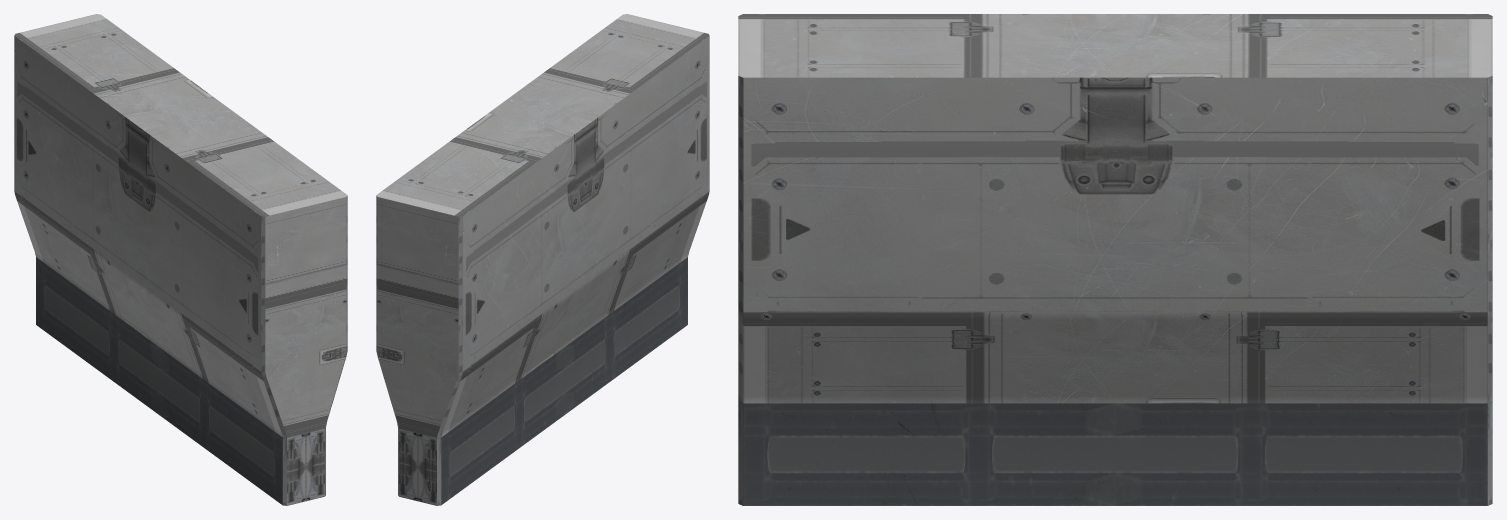
File: SM_Wallup05.fbx
3 renders of one model, left to right at view 1: azimuth 30°, elevation 25°; view 2: azimuth 150°, elevation 25°; view 3: azimuth 270°, elevation 25°, orthographic. The views are drawn at different scales.
Visible parts, largest first — view 1: SM_Wallup05_LOD0; view 2: SM_Wallup05_LOD0; view 3: SM_Wallup05_LOD0.
Part boxes in pixels (x1=…): SM_Wallup05_LOD0: x1=14, y1=14, x2=347, y2=505; SM_Wallup05_LOD0: x1=376, y1=14, x2=709, y2=505; SM_Wallup05_LOD0: x1=738, y1=14, x2=1492, y2=505.
Size of the model in its own units: 80 by 400 by 260.
